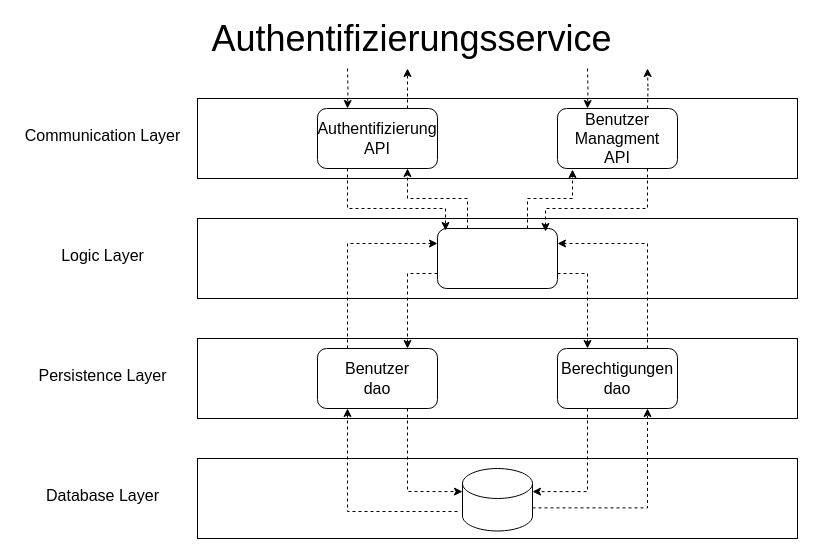
Some shapes in this 815 by 556 pixel diagram are drawn without their labels. Here are the shapes that lost their labels. From the top down, the centre of each, then its label:
point (497, 258): Benutzer Objekt
point (497, 499): Database
